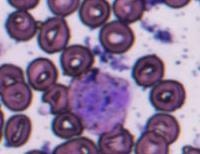E: (68, 69, 132, 134)
